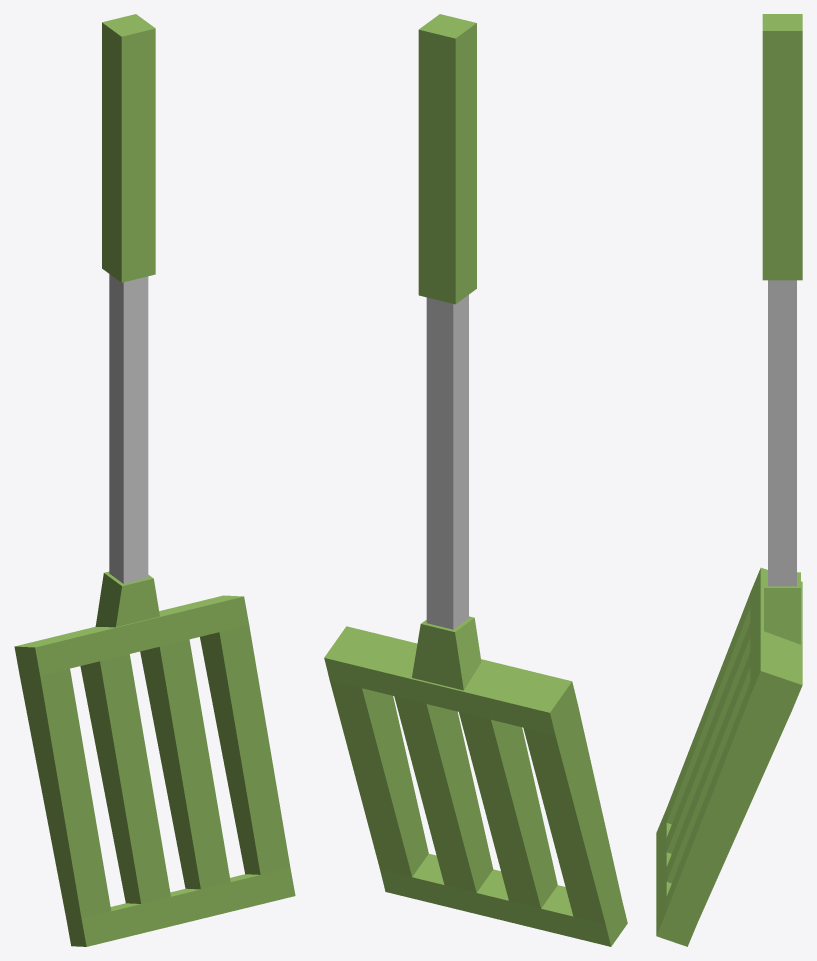
File: fritterTender3_PLY.fbx
3 views of the same model, side by side, from view 1: azimuth 30°, elevation 25°; view 2: azimuth 150°, elevation 25°; view 3: azimuth 270°, elevation 25° (orthographic). The views are drawn at different scales.
Parts seen in each view (by area): view 1: fritterTender3_PLY; view 2: fritterTender3_PLY; view 3: fritterTender3_PLY.
Boxes of the visible parts, x1,y1,x2,y2 form: fritterTender3_PLY: (14,14,295,946); fritterTender3_PLY: (324,14,627,946); fritterTender3_PLY: (656,14,802,946).
Size of the model in its own units: 0.3784 by 1.49 by 0.2262.
